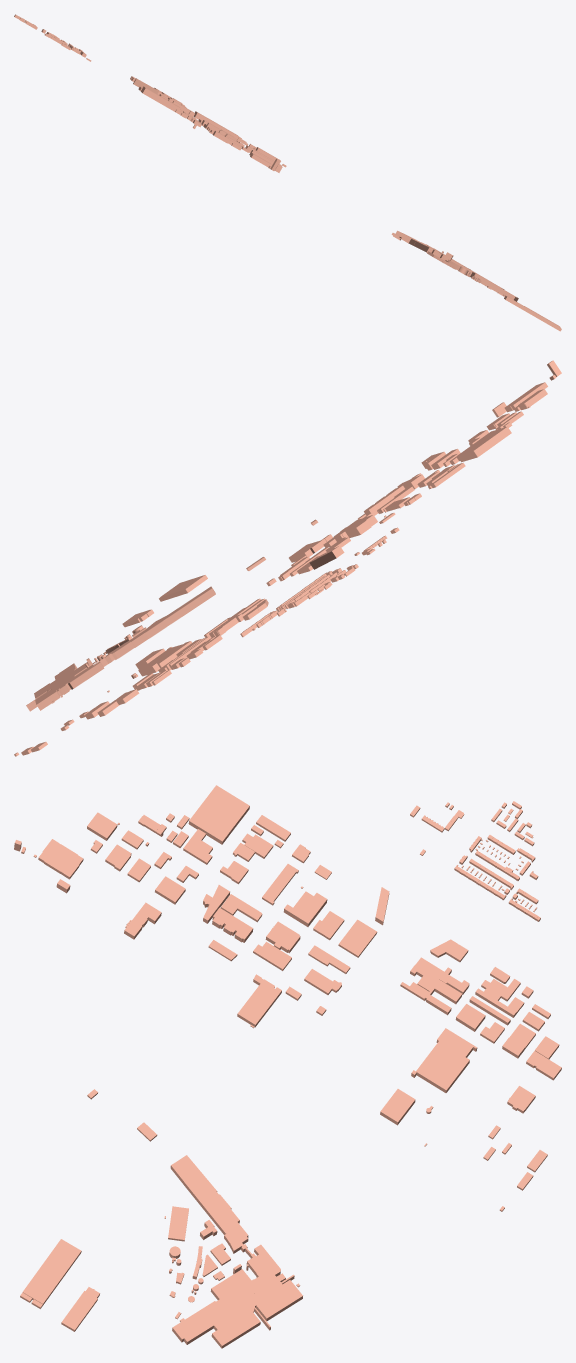
3 renders of one model, top to bottom at view 1: azimuth 30°, elevation 25°; view 2: azimuth 150°, elevation 25°; view 3: azimuth 270°, elevation 25°, orthographic. The views are drawn at different scales.
Bounding box in the file's own units: 1066 × 816 × 1145.
